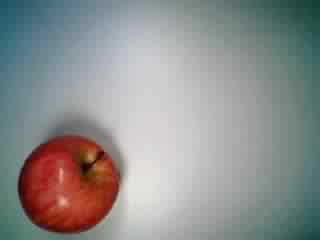apple: (17, 131, 120, 235)
